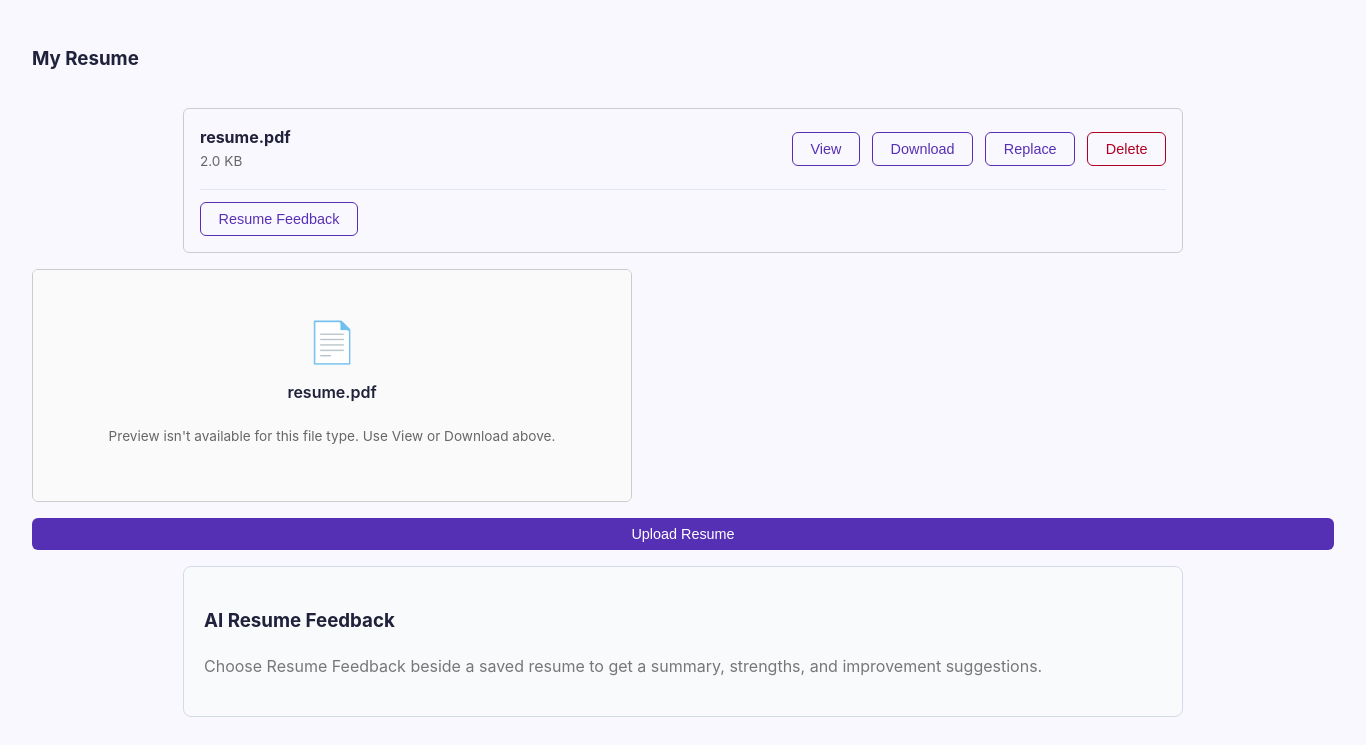
Resume feedback states › handles feedback with no suggestions
Click the button "Resume Feedback" at (279, 219), box [200,202,358,236]
(page scrolled)
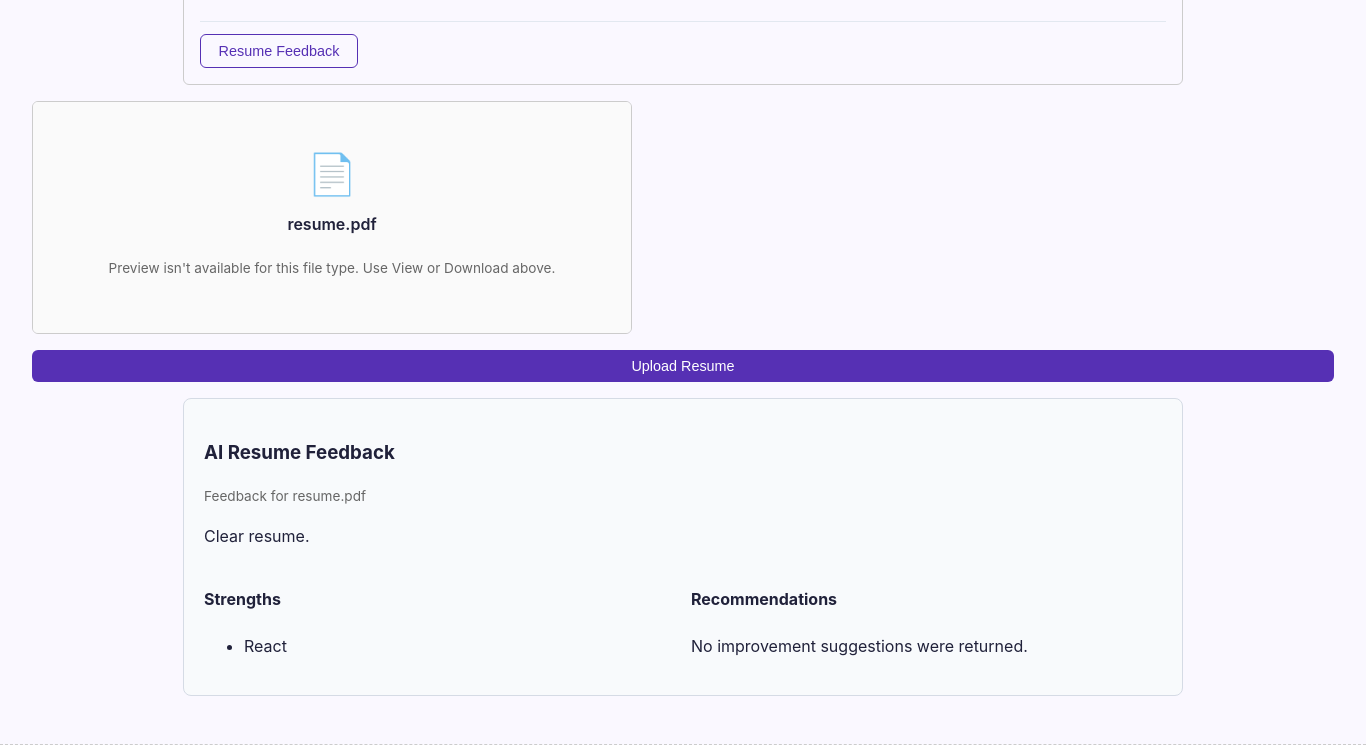
Expected: the text "No improvement suggestions were returned." is shown, [691,636,1028,656]
